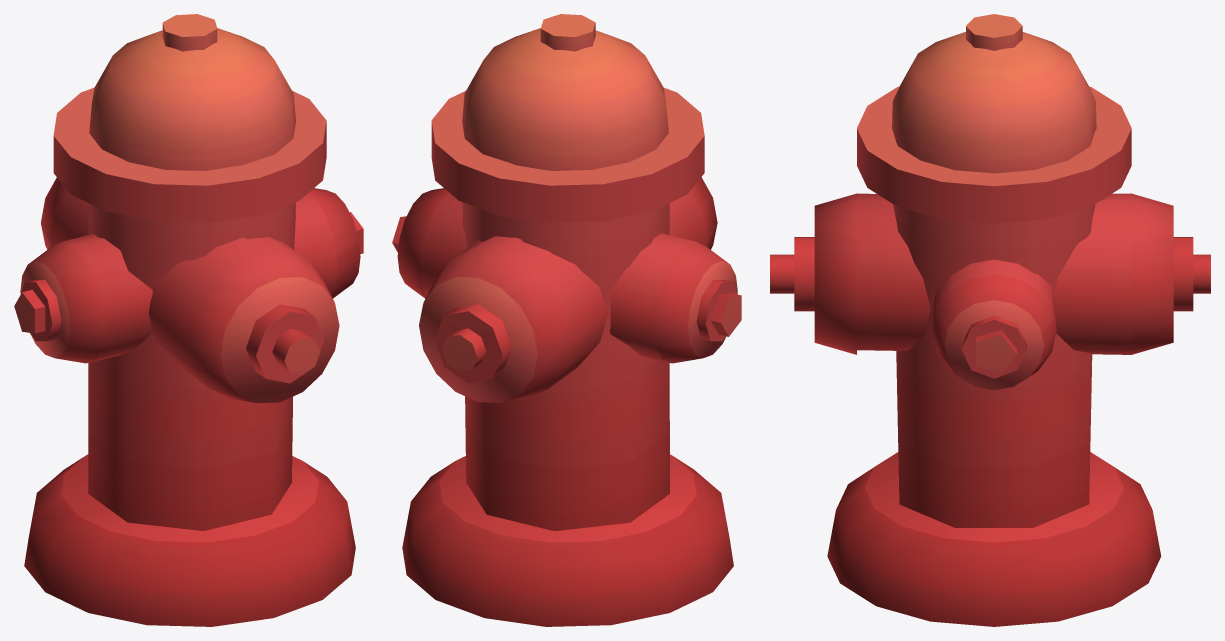
The model's file is Hydrant.fbx.
3 views of the same model, side by side, from view 1: azimuth 30°, elevation 25°; view 2: azimuth 150°, elevation 25°; view 3: azimuth 270°, elevation 25° (orthographic).
Parts seen in each view (by area): view 1: Hydrant; view 2: Hydrant; view 3: Hydrant.
Part boxes in pixels (x1,y1,x2,y2): Hydrant: [14, 14, 363, 626]; Hydrant: [392, 14, 741, 626]; Hydrant: [770, 14, 1210, 626].
Bounding box in the file's own units: 48.24 × 74.47 × 56.1.
